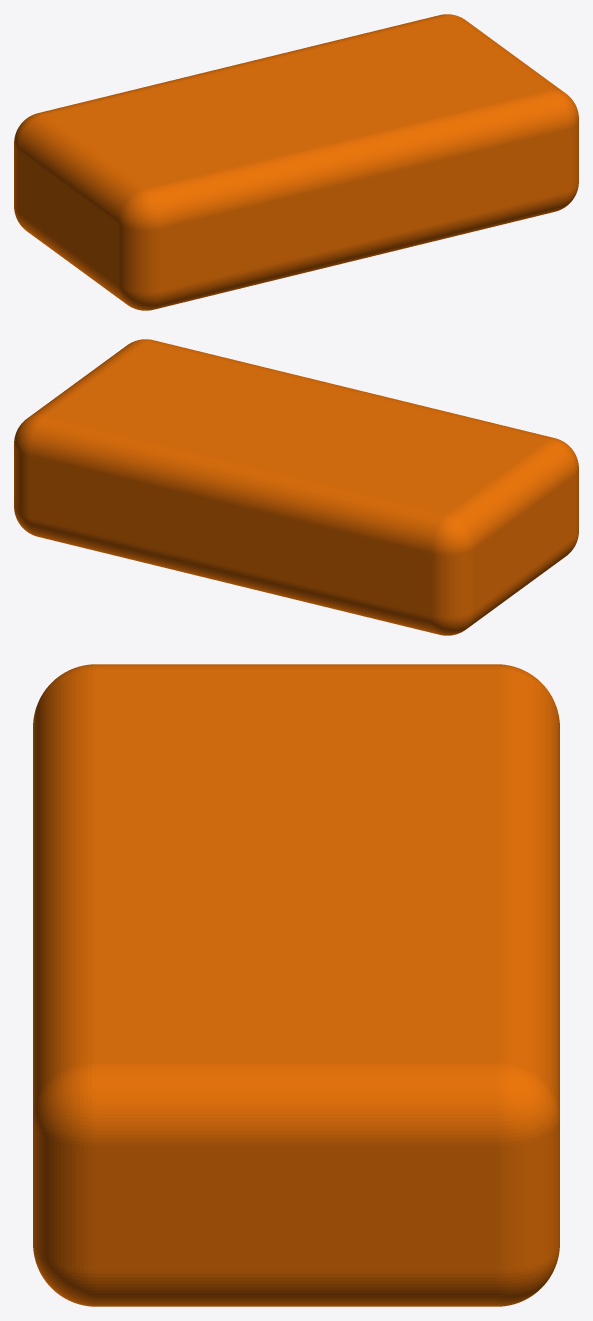
Rendered from BlockOrange.fbx.
The picture shows the model from 3 angles, top to bottom: view 1: azimuth 30°, elevation 25°; view 2: azimuth 150°, elevation 25°; view 3: azimuth 270°, elevation 25°; orthographic projection. The views are drawn at different scales.
Visible parts, largest first — view 1: Cube.004; view 2: Cube.004; view 3: Cube.004.
Boxes of the visible parts, bbox=[...] form: Cube.004: bbox=[14, 14, 578, 310]; Cube.004: bbox=[14, 339, 578, 635]; Cube.004: bbox=[33, 664, 559, 1306].
Size of the model in its own units: 4 by 1 by 2.
